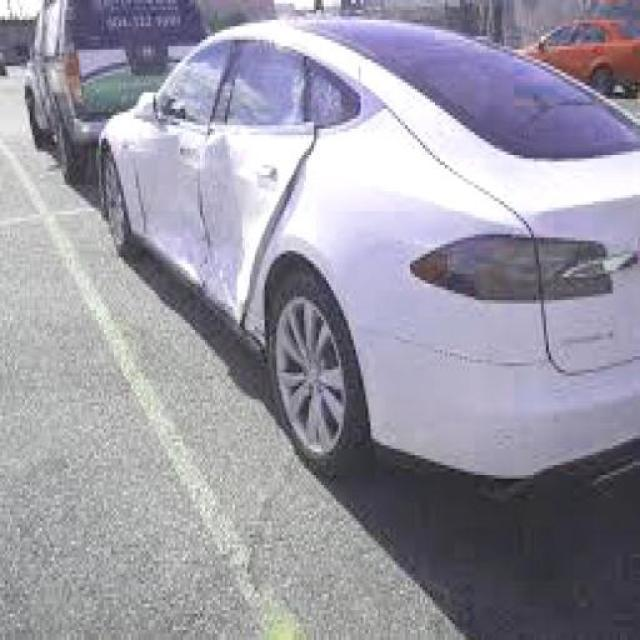Car-Damage: (110, 112, 327, 322)
